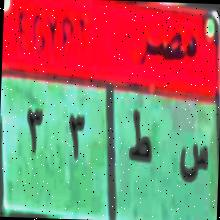3: (23, 98, 45, 162), (67, 107, 85, 162)
Taa: (124, 106, 152, 174)
seen: (176, 133, 212, 185)
